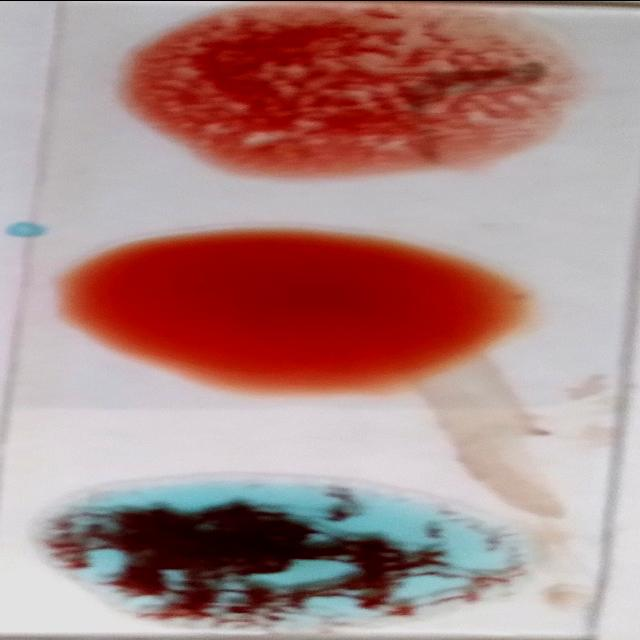A: (54, 476, 517, 624)
D: (126, 6, 558, 158)
